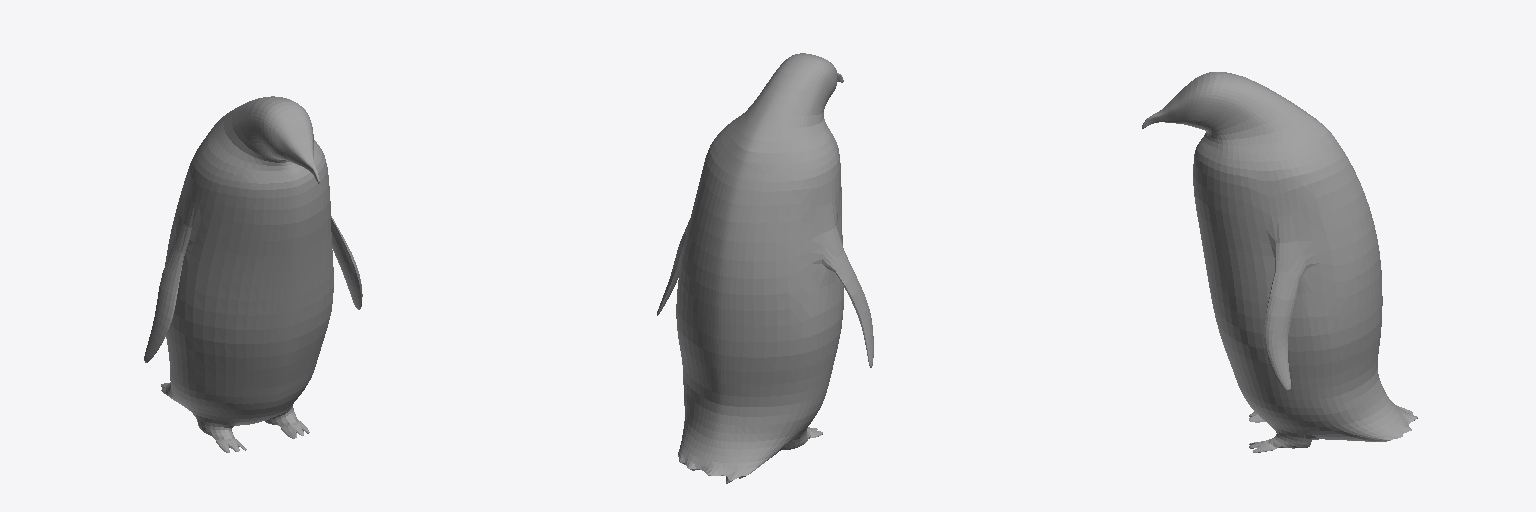
The model's file is PenguinBaseMesh.obj.
The picture shows the model from 3 angles: view 1: azimuth 30°, elevation 25°; view 2: azimuth 150°, elevation 25°; view 3: azimuth 270°, elevation 25°; orthographic projection.
Parts seen in each view (by area): view 1: Penguin_Cylinder; view 2: Penguin_Cylinder; view 3: Penguin_Cylinder.
Boxes of the visible parts, box(x1,y1,x2,y2) form: Penguin_Cylinder: box(144, 96, 362, 452); Penguin_Cylinder: box(657, 53, 873, 483); Penguin_Cylinder: box(1142, 72, 1417, 452).
Bounding box in the file's own units: 0.7502 × 1.19 × 0.8357.